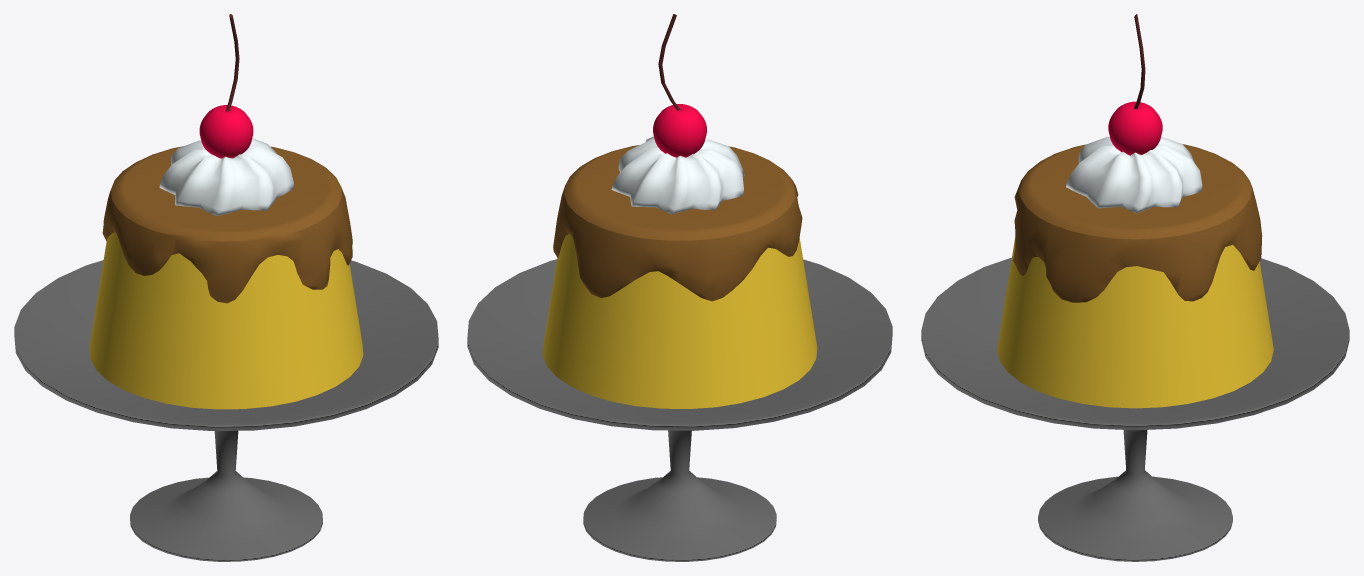
The model's file is pudding.glb.
3 views of the same model, side by side, from view 1: azimuth 30°, elevation 25°; view 2: azimuth 150°, elevation 25°; view 3: azimuth 270°, elevation 25° (orthographic).
Parts seen in each view (by area): view 1: pCylinder15, pCylinder5, pCylinder4, pCylinder6, pSphere1; view 2: pCylinder15, pCylinder5, pCylinder4, pCylinder6, pSphere1; view 3: pCylinder15, pCylinder5, pCylinder4, pCylinder6, pSphere1.
Boxes of the visible parts, left/top/right/bottom form: pCylinder15: left=14, top=260, right=438, bottom=561; pCylinder5: left=89, top=232, right=363, bottom=409; pCylinder4: left=102, top=146, right=352, bottom=303; pCylinder6: left=159, top=138, right=293, bottom=215; pSphere1: left=199, top=14, right=253, bottom=158; pCylinder15: left=467, top=259, right=892, bottom=561; pCylinder5: left=542, top=233, right=817, bottom=408; pCylinder4: left=553, top=145, right=802, bottom=301; pCylinder6: left=611, top=136, right=744, bottom=214; pSphere1: left=653, top=14, right=706, bottom=157; pCylinder15: left=921, top=257, right=1349, bottom=561; pCylinder5: left=997, top=238, right=1273, bottom=408; pCylinder4: left=1013, top=144, right=1262, bottom=302; pCylinder6: left=1066, top=136, right=1202, bottom=213; pSphere1: left=1108, top=14, right=1162, bottom=155.
Bounding box in the file's own units: 91.88 × 120 × 91.88.
Materials: 1 (1 with a texture image).
